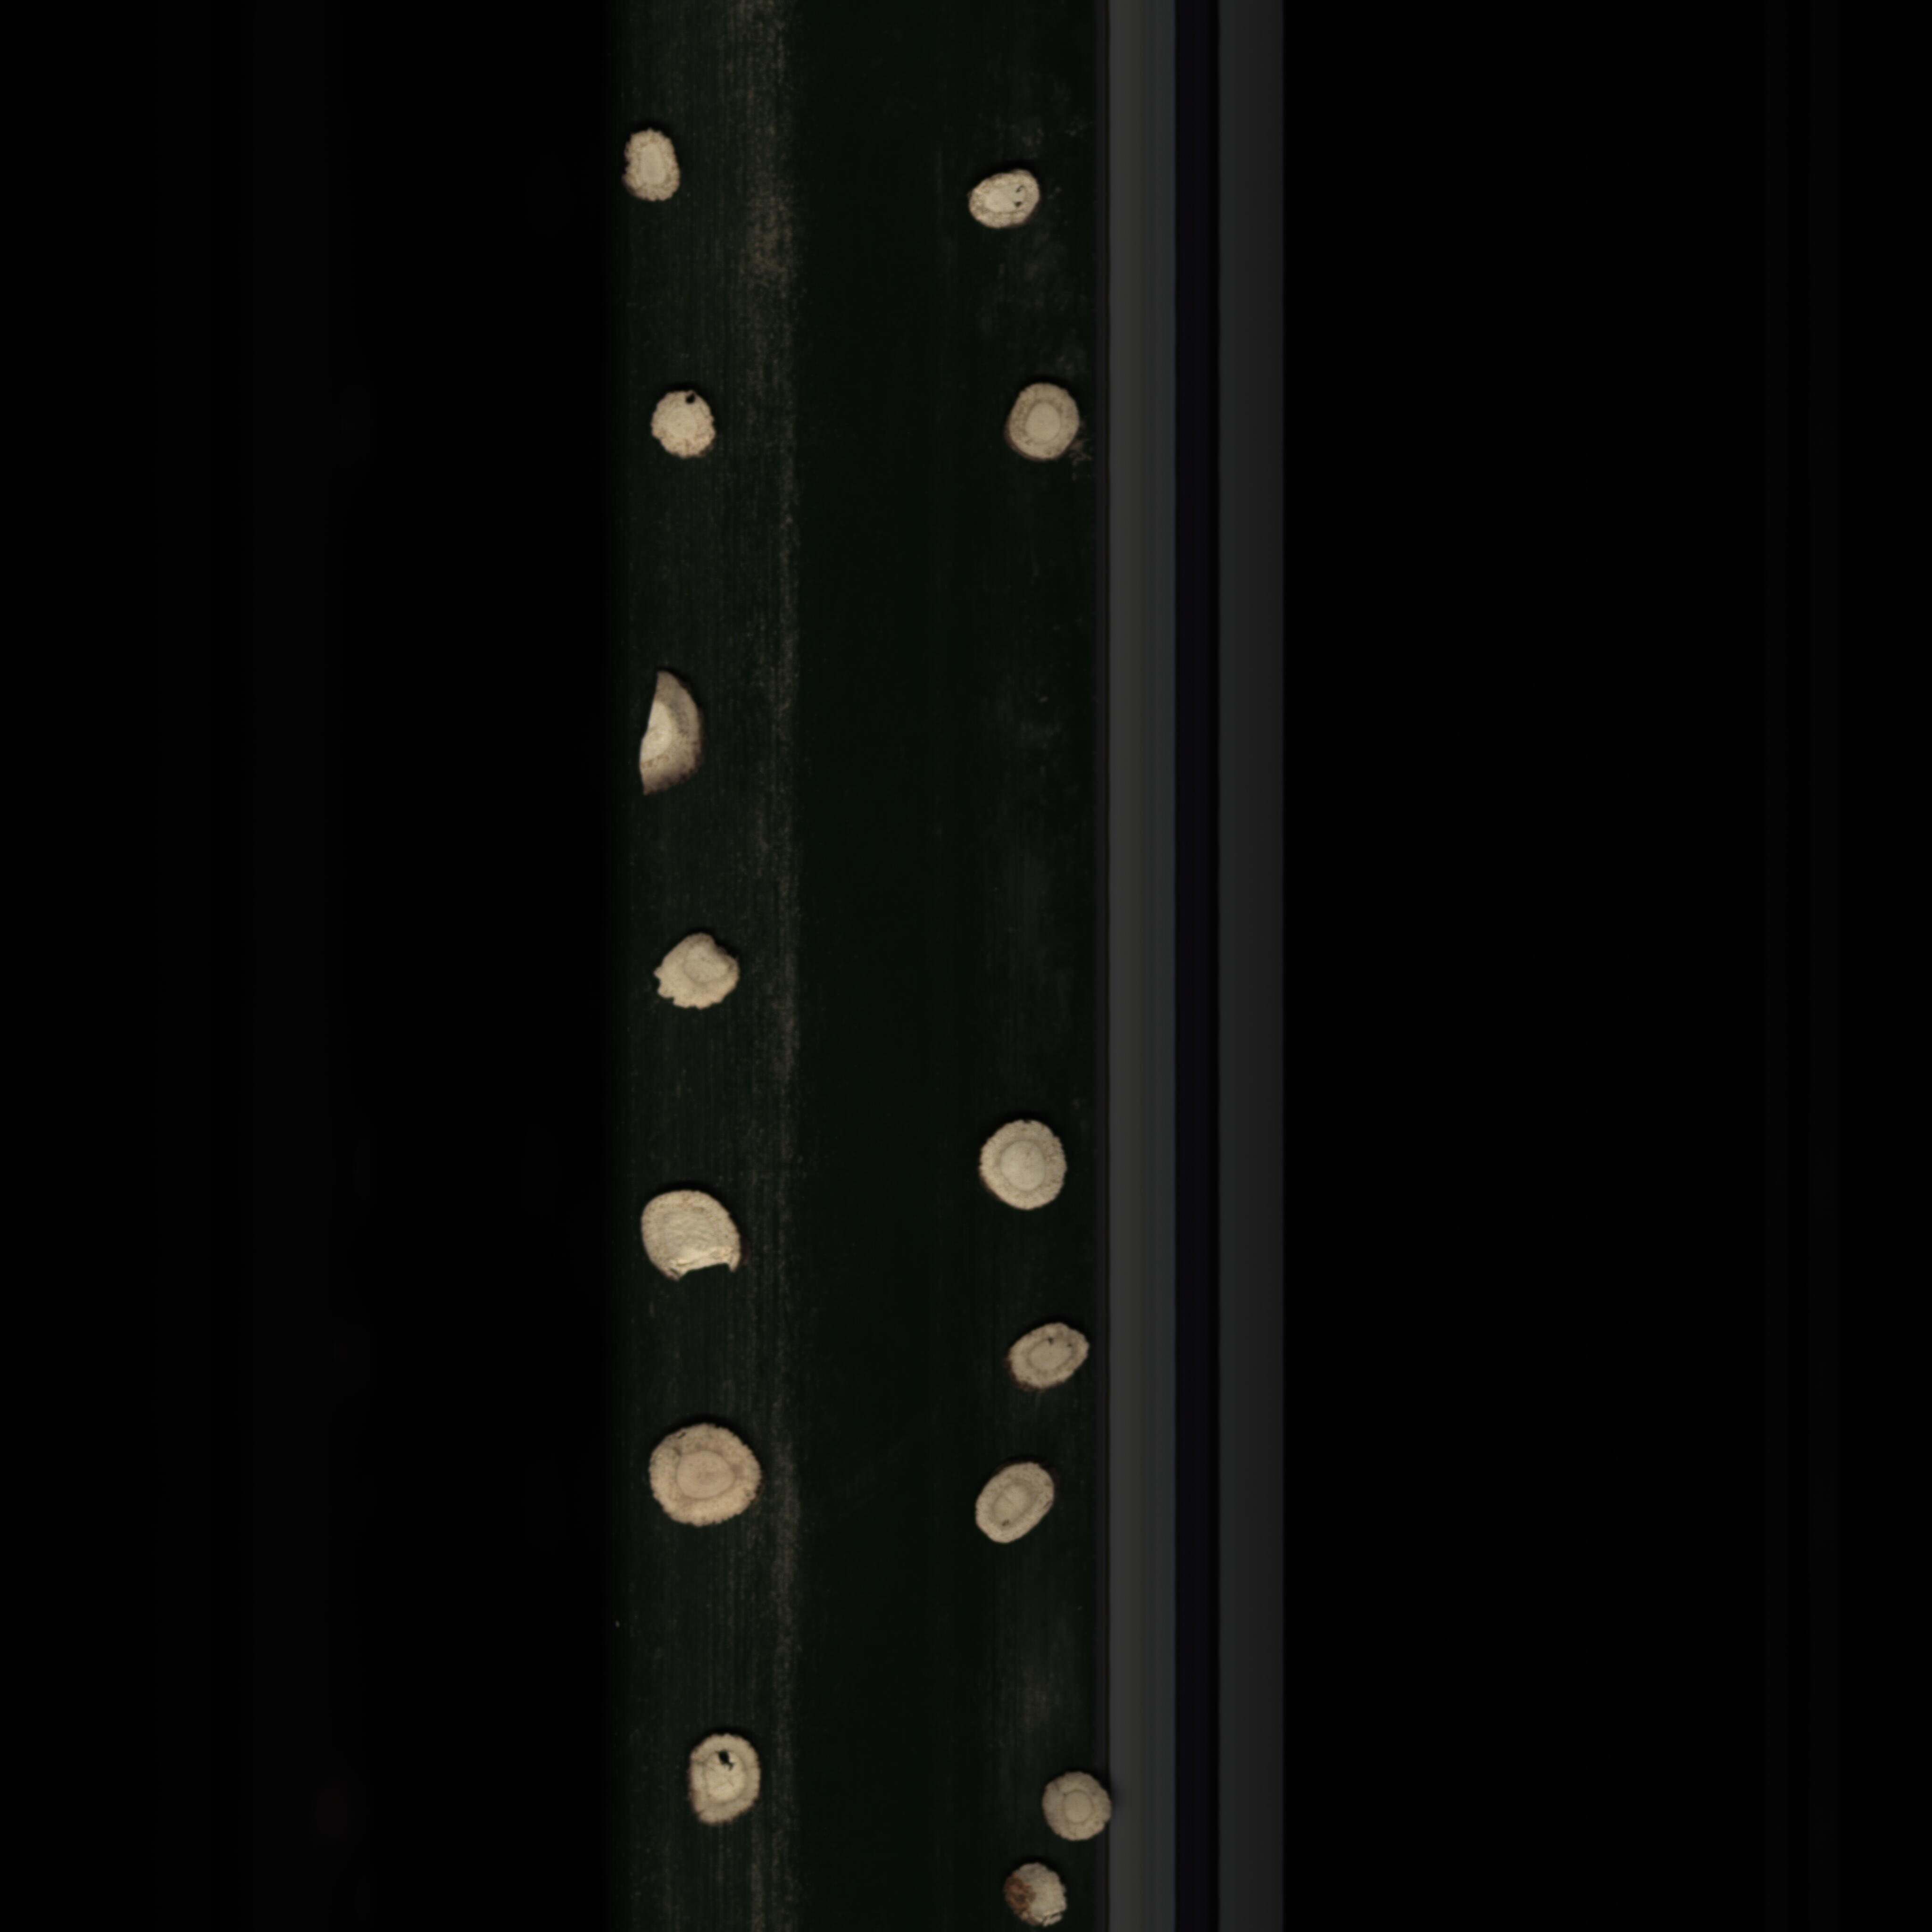bark: (993, 1858, 1070, 1928)
debris: (635, 1185, 750, 1297), (632, 667, 718, 805)
distortion: (646, 929, 745, 1019)
hole: (674, 1729, 768, 1838), (962, 161, 1056, 244)
